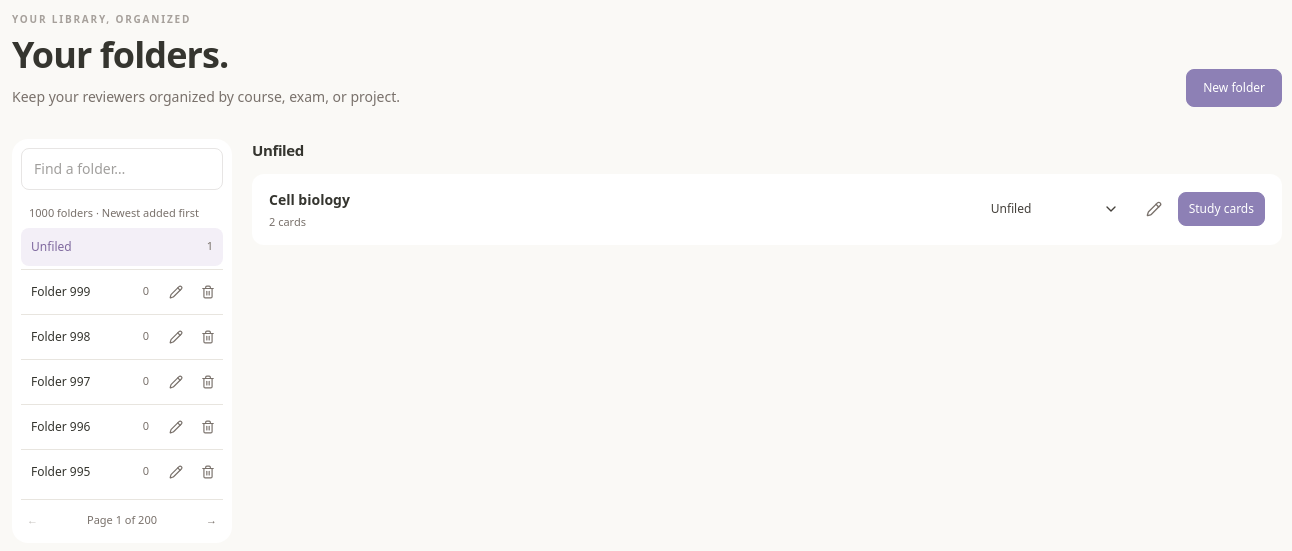
Test: 1000 folders render only five rows, newest first, with searchable pages
Check: the number of buttons named "Rename " is 5, box [161,275,191,309]; [161,320,191,354]; [161,365,191,399]; [161,410,191,444]; [161,455,191,489]
Check: the button "Folder 999 0" is shown, box [21,273,159,311]
Click the button named "Next folder page" at x=212, y=520, box [200,506,223,534]
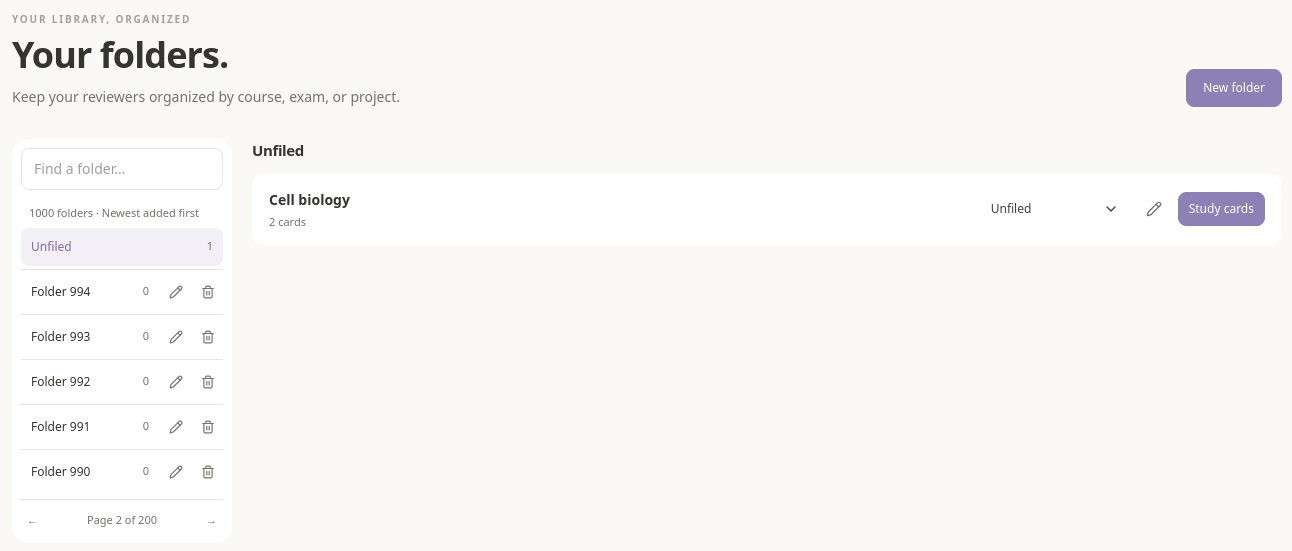
Check: the text "Page 2 of 200" is shown, box [87,512,157,528]
Click the button "Folder 994 0" at x=90, y=292, box [21,273,159,311]
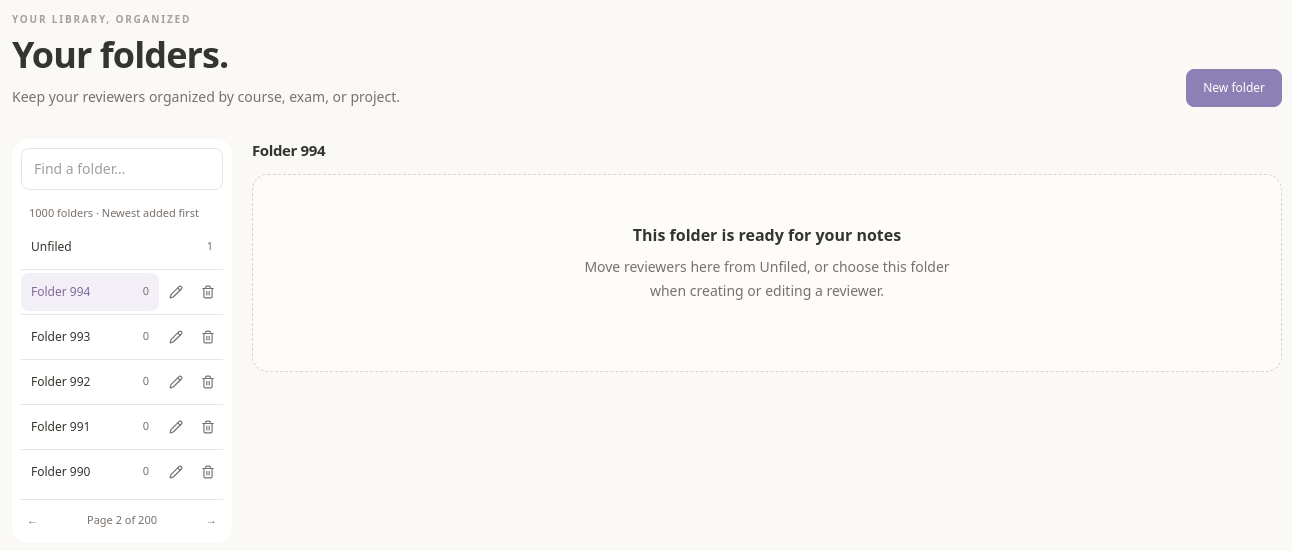
Type "Folder 999" into the search field named "Search folders" at x=122, y=169, box [21,148,223,190]
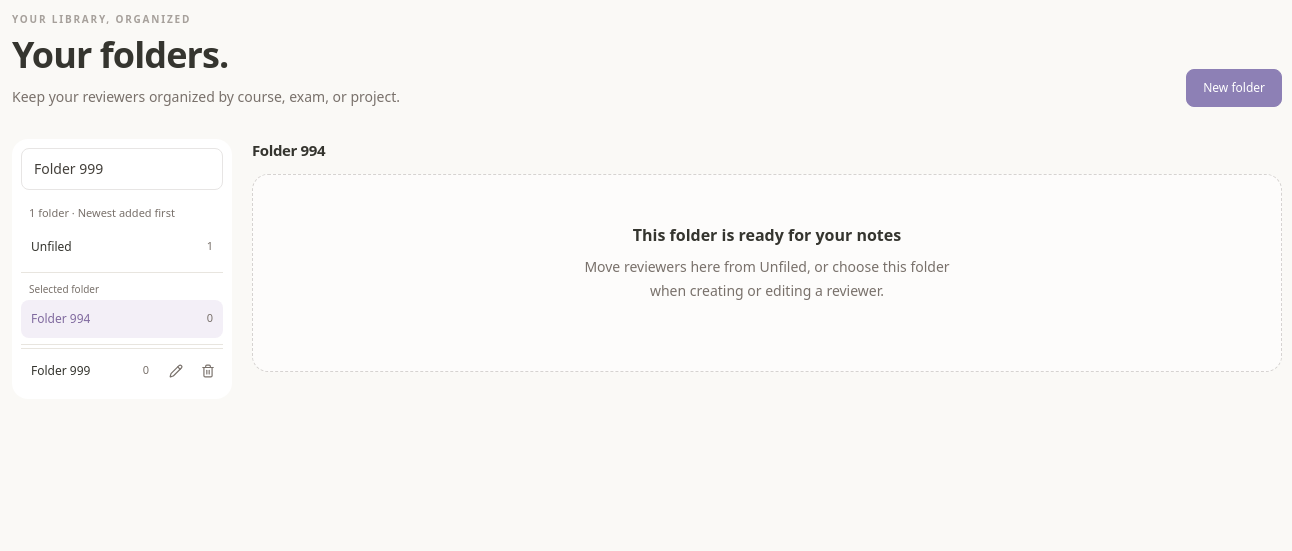
Check: the number of buttons named "Rename " is 1, box [161,354,191,388]
Check: the text "Selected folder" is shown, box [29,282,99,296]
Click the button "Folder 994 0" at x=122, y=319, box [21,300,223,338]
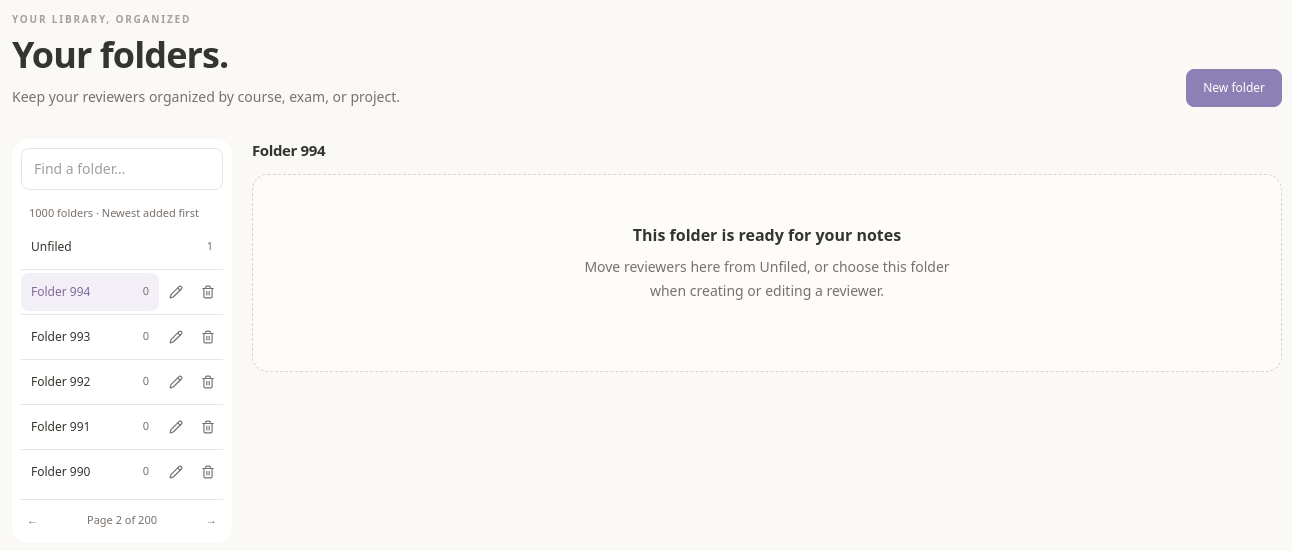
Check: the search field named "Search folders" is empty
Check: the text "Page 2 of 200" is shown, box [87,512,157,528]
Type "No such folder" into the search field named "Search folders" at x=122, y=169, box [21,148,223,190]
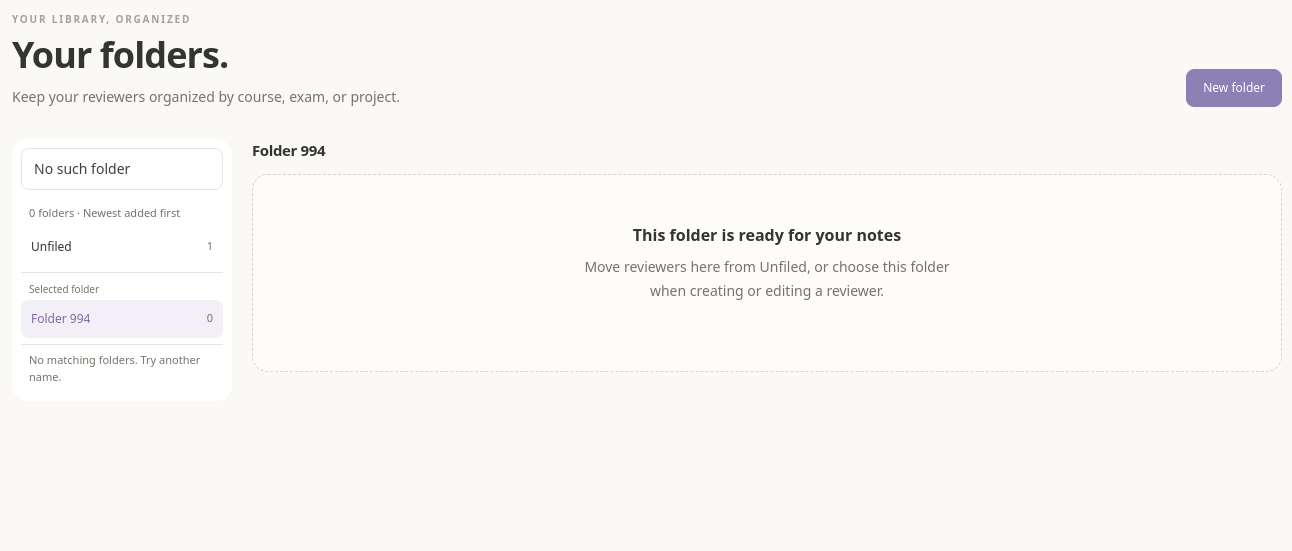
Check: the text "No matching folders. Try another name." is shown, box [29,352,200,384]
